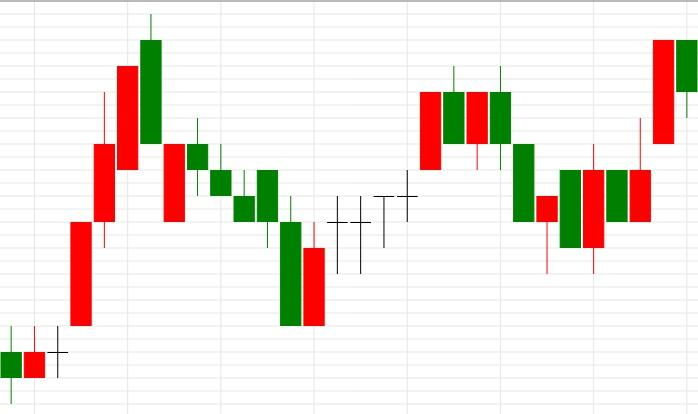bearish_engulfing_fall: (303, 66, 512, 326)
hammer_rise: (490, 66, 559, 273)
